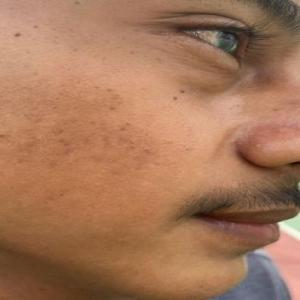Dry-Skin: (148, 43, 279, 103)
